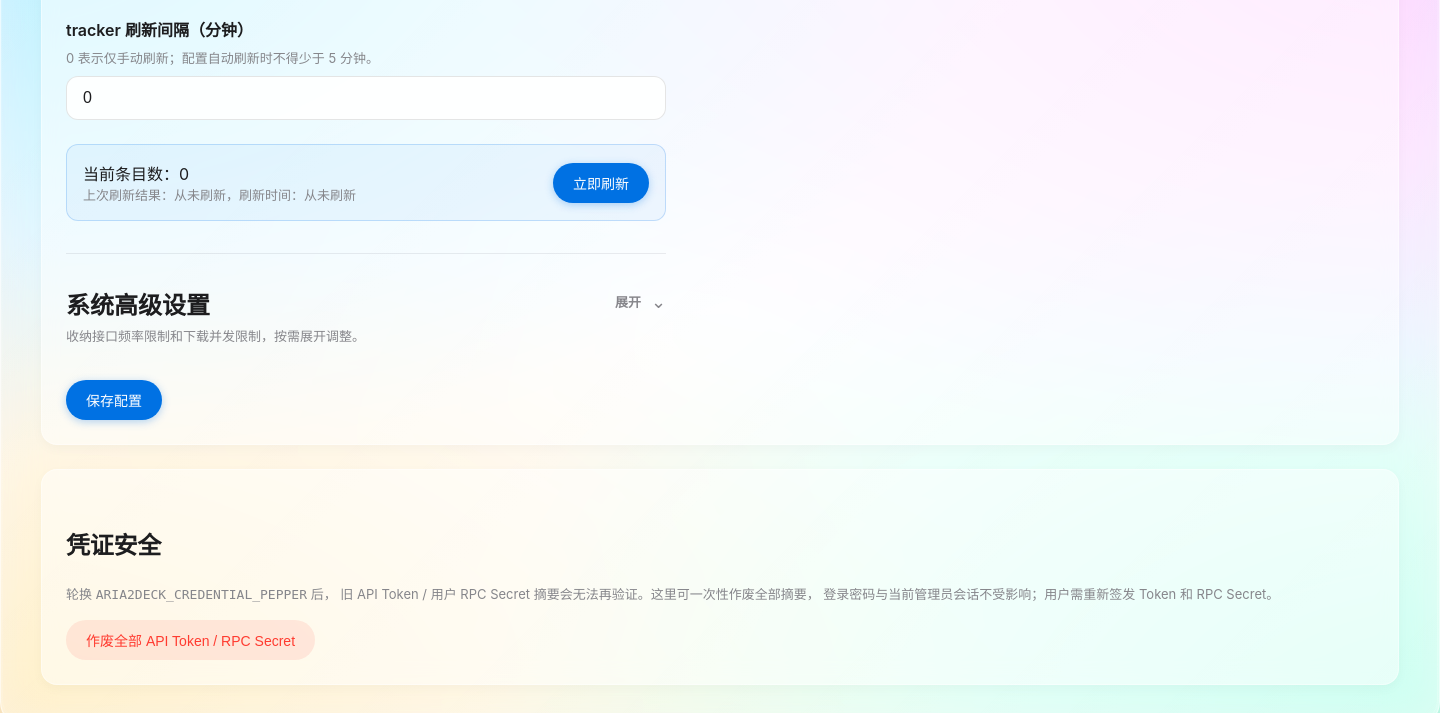
SettingsPage › renders create share rate limit field with config value
(page scrolled)
What coordinates should you click on to do the following:
click the button "系统高级设置 收纳接口频率限制和下载并发限制，按需展开调整。 展开 ⌄"
I would click on:
 (138, 306)
Its box is [66,286,666,348].
(page scrolled)
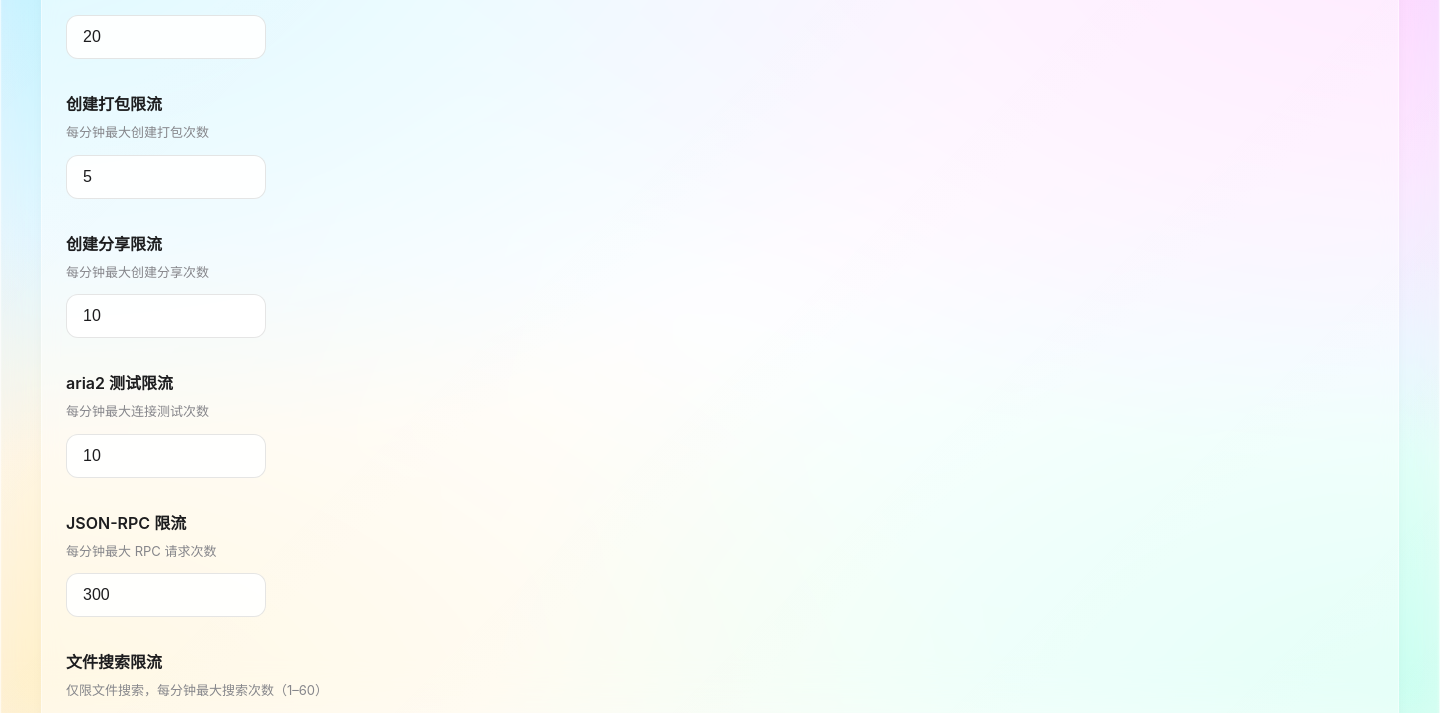
Now the number field labelled "创建分享限流" holds "10", box [66,294,266,338]
